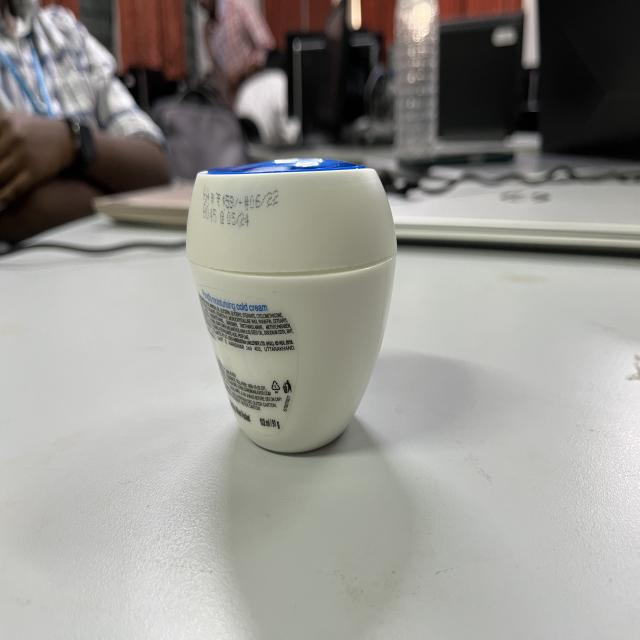L1: (186, 162, 402, 458)
